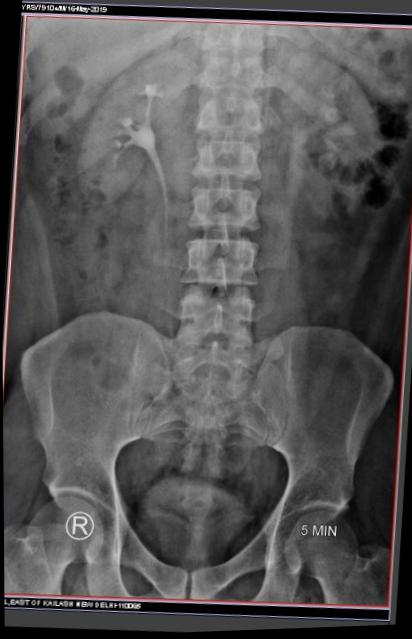bladder: (125, 466, 256, 577)
right kidney: (65, 42, 199, 221)
vertebrae: (193, 90, 264, 141)
